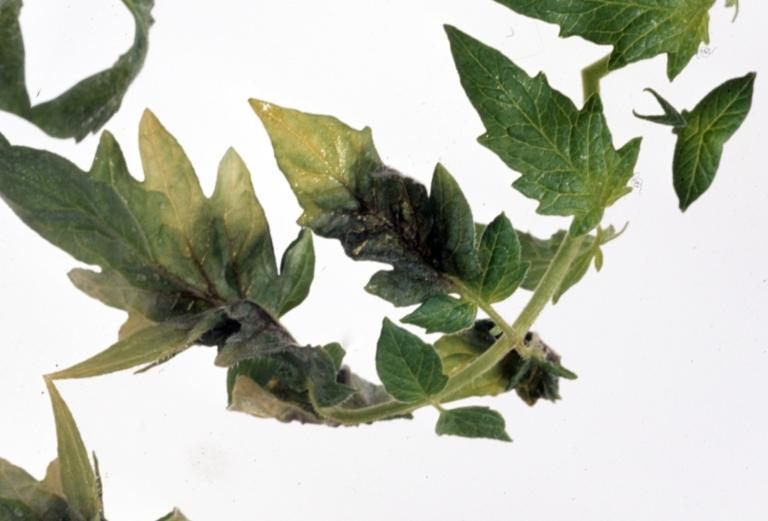Tomato leaf late blight: (0, 58, 352, 384), (190, 61, 555, 354), (368, 10, 691, 274)
